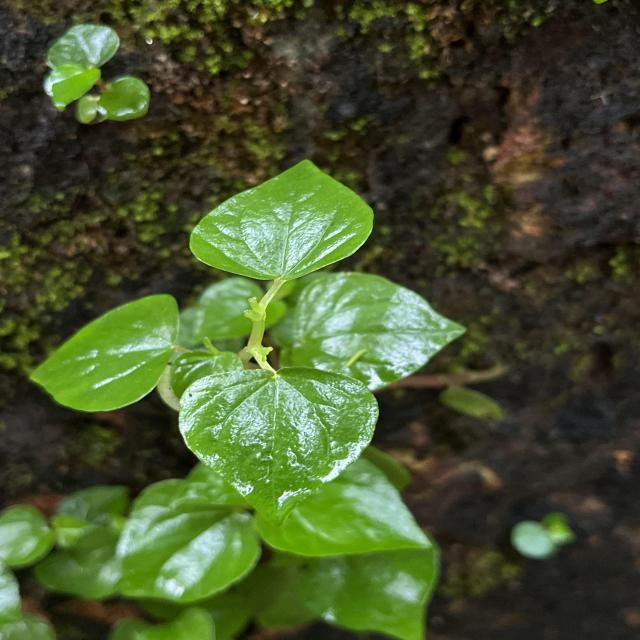Peperomia pellucida: (174, 363, 382, 530), (186, 155, 378, 284)
